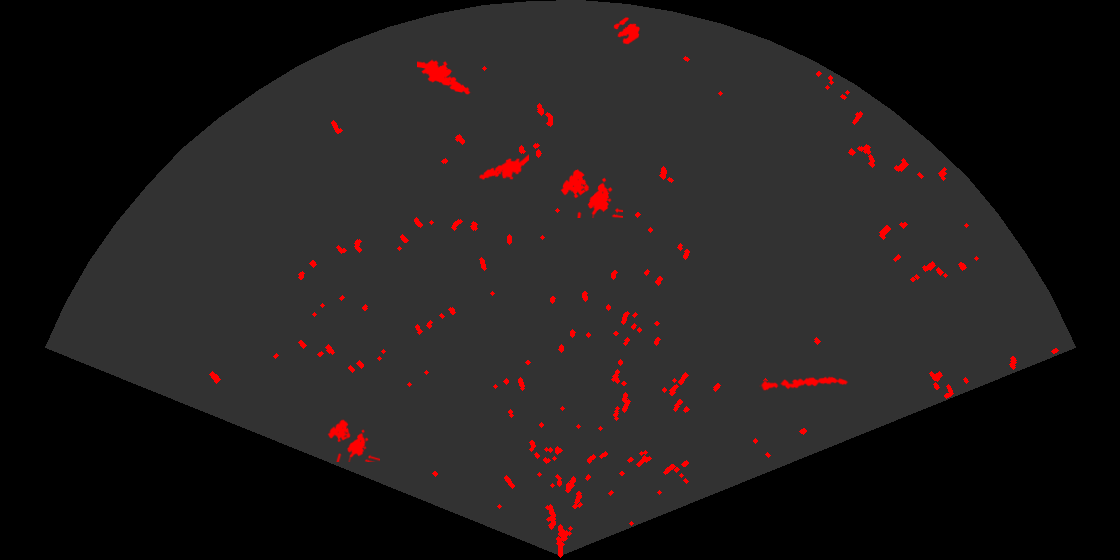ball: (612, 16, 642, 46)
cage: (559, 168, 623, 218), (326, 418, 380, 462)
chain: (759, 375, 849, 392)
frogman: (417, 58, 473, 96), (477, 153, 529, 181)
